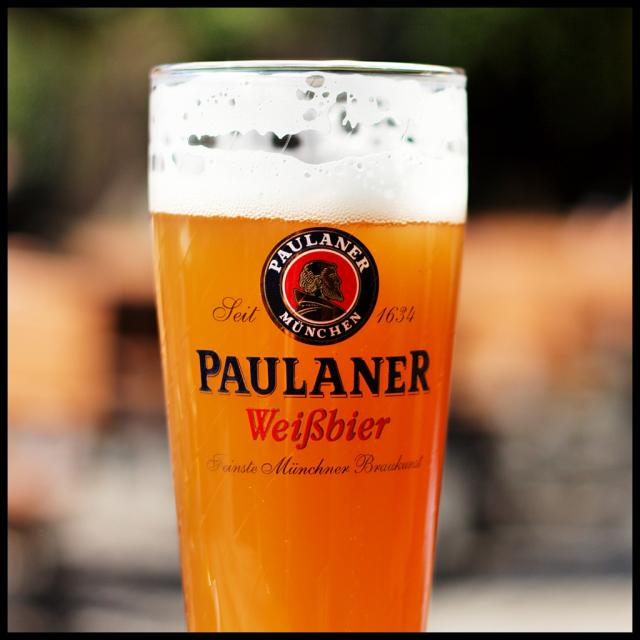paulaner: (261, 228, 382, 346)
